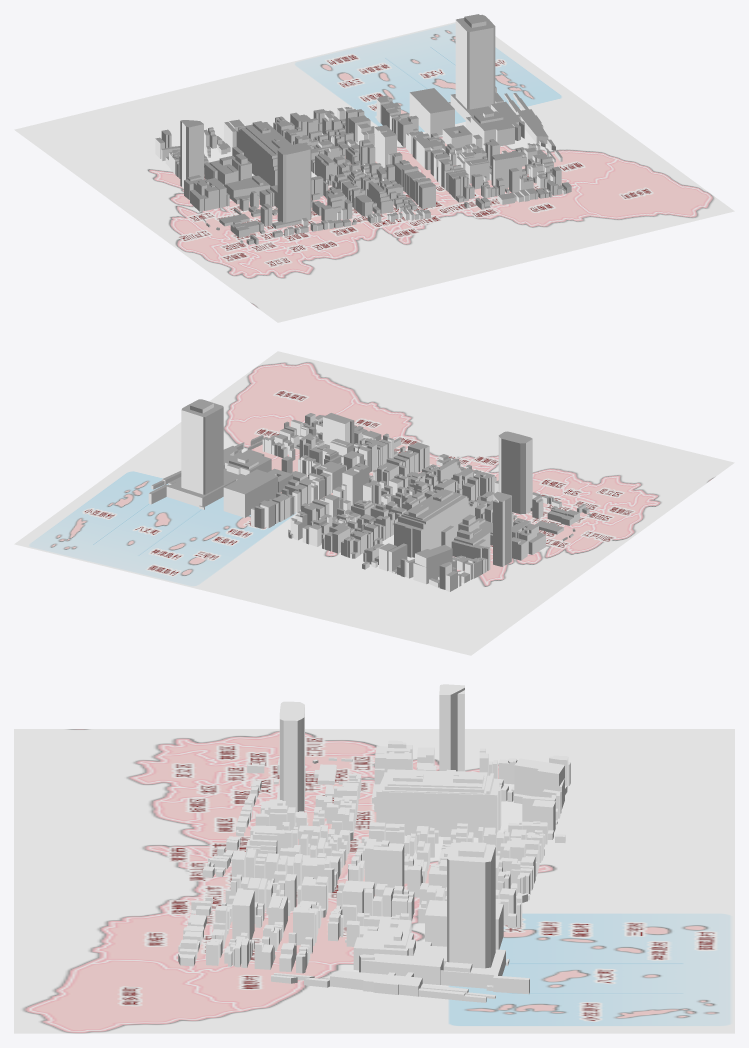
Rendered from testExport_20200527.glb.
3 views of the same model, one above another, from view 1: azimuth 30°, elevation 25°; view 2: azimuth 150°, elevation 25°; view 3: azimuth 270°, elevation 25° (orthographic). The views are drawn at different scales.
Parts seen in each view (by area): view 1: Plane, 447_893, 465_929, 613_1225, 459_917, 677_1353, 459, 320_639; view 2: Plane, 447_893, 465_929, 459_917, 677_1353, 613_1225, 448_895, 640_1279, 320_639, 459, 437_873; view 3: Plane, 447_893, 638_1275, 465_929, 613_1225, 448_895, 437_873, 432_863, 431_861, 448, 459_917, 676 (+6 smaller).
Part boxes in pixels (left/top/right/bottom): Plane: left=14, top=22, right=734, bottom=322; 447_893: left=455, top=20, right=495, bottom=109; 465_929: left=277, top=148, right=311, bottom=222; 613_1225: left=180, top=121, right=203, bottom=188; 459_917: left=409, top=93, right=454, bottom=136; 677_1353: left=240, top=129, right=277, bottom=186; 459: left=410, top=88, right=454, bottom=113; 320_639: left=491, top=156, right=521, bottom=188; Plane: left=14, top=351, right=734, bottom=655; 447_893: left=181, top=407, right=223, bottom=494; 465_929: left=498, top=436, right=532, bottom=514; 459_917: left=223, top=476, right=277, bottom=517; 677_1353: left=401, top=496, right=467, bottom=549; 613_1225: left=493, top=495, right=511, bottom=566; 448_895: left=148, top=479, right=237, bottom=507; 640_1279: left=394, top=523, right=423, bottom=557; 320_639: left=323, top=417, right=354, bottom=445; 459: left=224, top=469, right=277, bottom=494; 437_873: left=415, top=549, right=452, bottom=583; Plane: left=14, top=729, right=734, bottom=1033; 447_893: left=447, top=847, right=495, bottom=968; 638_1275: left=376, top=791, right=497, bottom=837; 465_929: left=279, top=707, right=304, bottom=811; 613_1225: left=439, top=688, right=464, bottom=771; 448_895: left=430, top=943, right=529, bottom=994; 437_873: left=514, top=765, right=564, bottom=796; 432_863: left=359, top=955, right=443, bottom=984; 431_861: left=330, top=976, right=422, bottom=996; 448: left=413, top=941, right=529, bottom=979; 459_917: left=425, top=904, right=503, bottom=949; 676: left=387, top=771, right=484, bottom=786.
Size of the model in its own units: 832 by 161 by 832.
3 materials, 1 textured.
